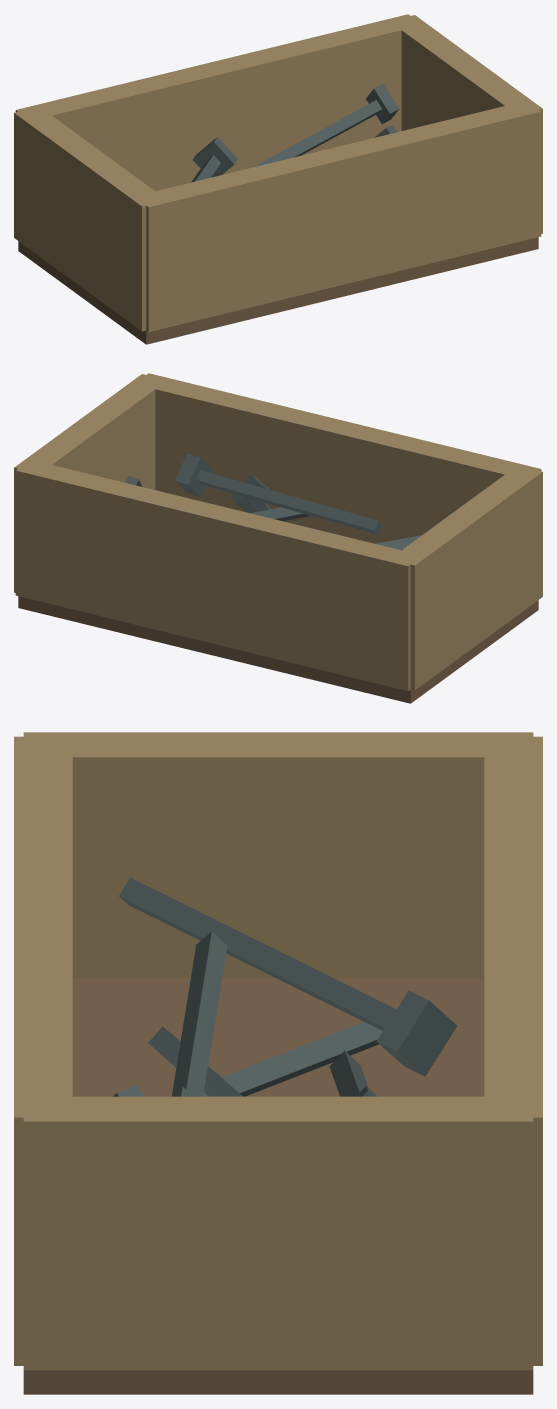
File: SWP_IronNailBox.fbx
3 renders of one model, top to bottom at view 1: azimuth 30°, elevation 25°; view 2: azimuth 150°, elevation 25°; view 3: azimuth 270°, elevation 25°, orthographic. The views are drawn at different scales.
Visible parts, largest first — view 1: SWP_IronNailBox; view 2: SWP_IronNailBox; view 3: SWP_IronNailBox.
Part boxes in pixels (x1=…): SWP_IronNailBox: x1=14, y1=14, x2=542, y2=344; SWP_IronNailBox: x1=14, y1=373, x2=542, y2=703; SWP_IronNailBox: x1=14, y1=732, x2=542, y2=1394.
Size of the model in its own units: 0.235 by 0.078 by 0.135.
